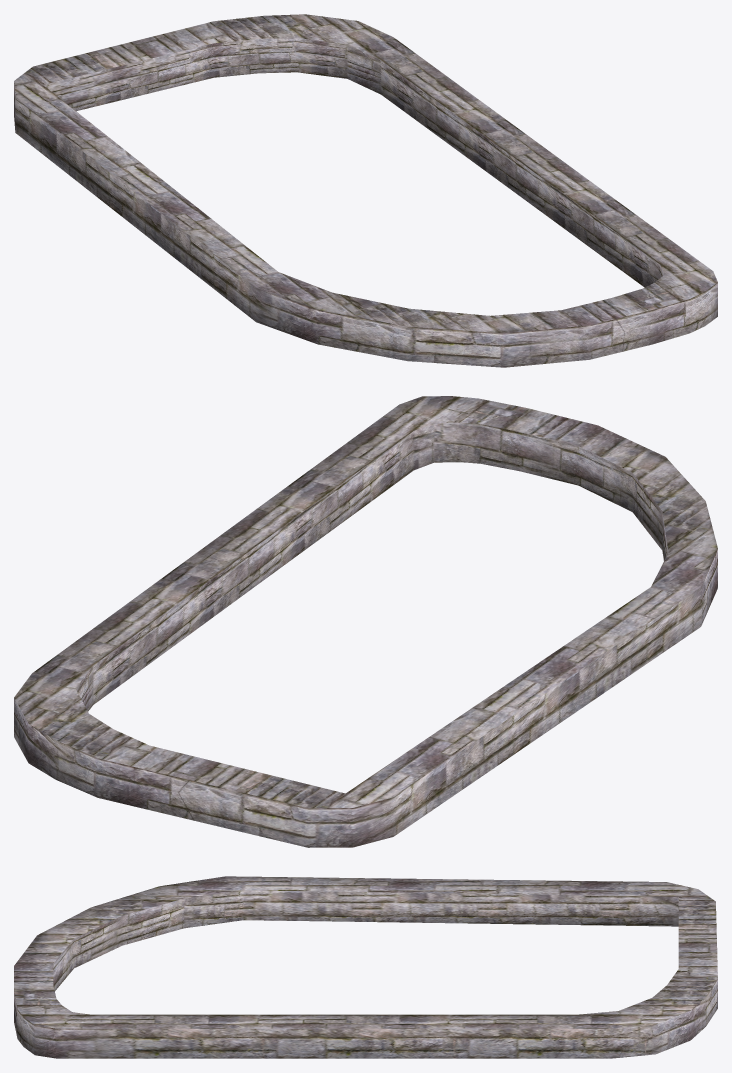
The model's file is HandelslagetBed1_EXP.fbx.
3 renders of one model, top to bottom at view 1: azimuth 30°, elevation 25°; view 2: azimuth 150°, elevation 25°; view 3: azimuth 270°, elevation 25°, orthographic. The views are drawn at different scales.
Parts seen in each view (by area): view 1: pPlane1; view 2: pPlane1; view 3: pPlane1.
Boxes of the visible parts, bbox=[...] form: pPlane1: bbox=[14, 14, 717, 367]; pPlane1: bbox=[14, 396, 717, 847]; pPlane1: bbox=[14, 876, 717, 1058].
Size of the model in its own units: 2.97 by 0.271 by 5.79.
Materials: 1 (1 with a texture image).
